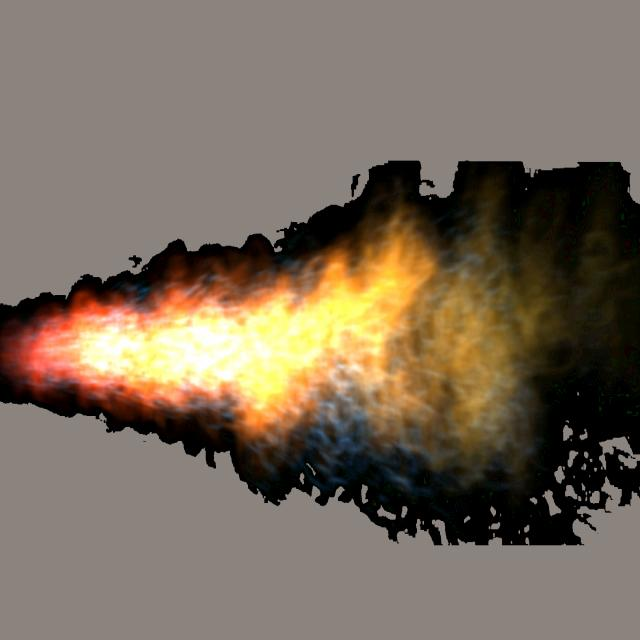fire: (0, 213, 574, 508)
